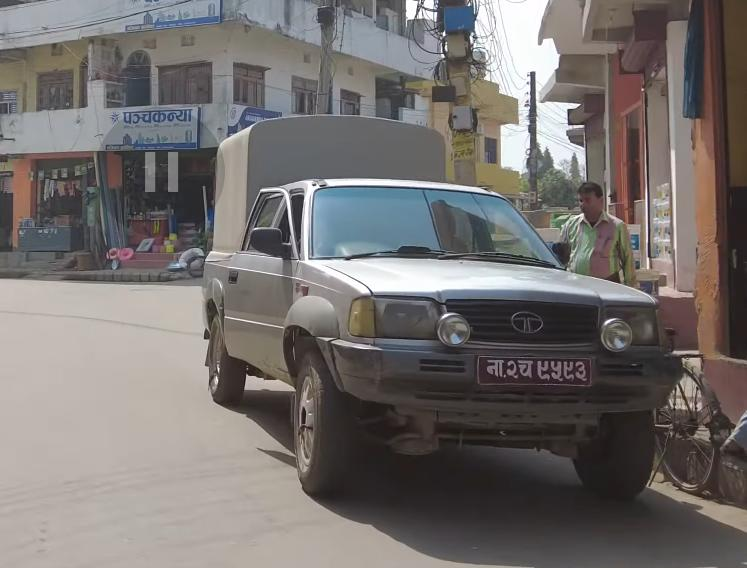transport_vehicle: (203, 108, 691, 506)
